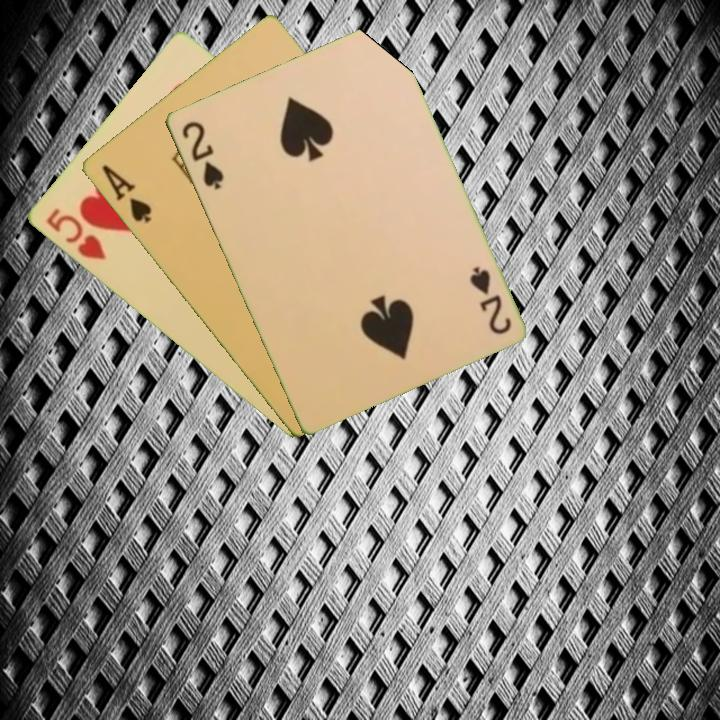2s: (177, 117, 226, 193), (465, 262, 514, 338)
5h: (41, 205, 109, 263)
As: (97, 161, 154, 226)
